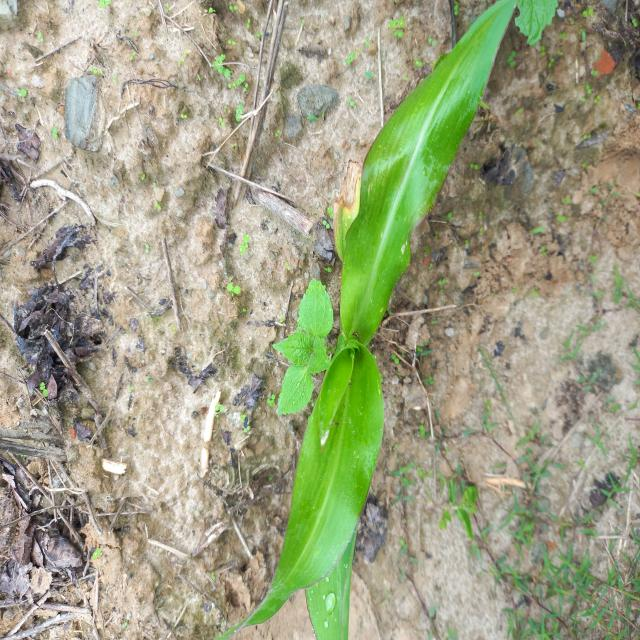maize: (308, 3, 474, 640)
weed: (445, 446, 640, 631), (262, 256, 332, 395), (198, 54, 270, 120), (216, 271, 250, 305), (222, 227, 258, 254)
